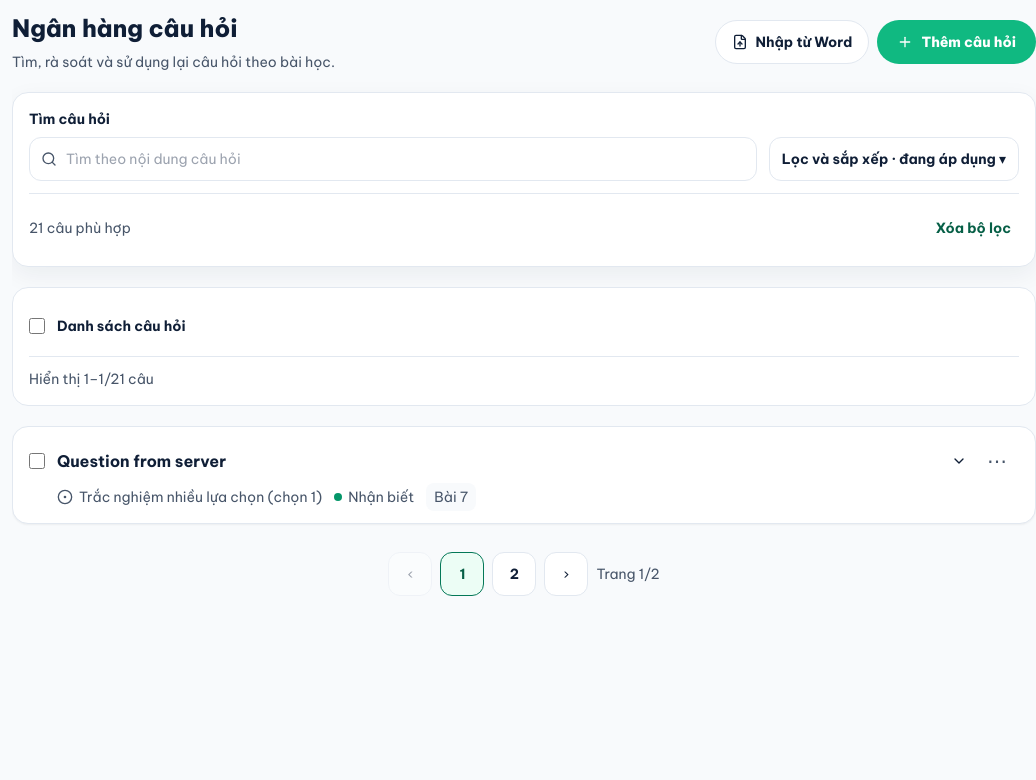
Test: Teacher Question Bank server list › requests filtered pages from the backend instead of slicing a local first page
Click the button named "Trang câu hỏi sau": (566, 574) [544,552,588,596]
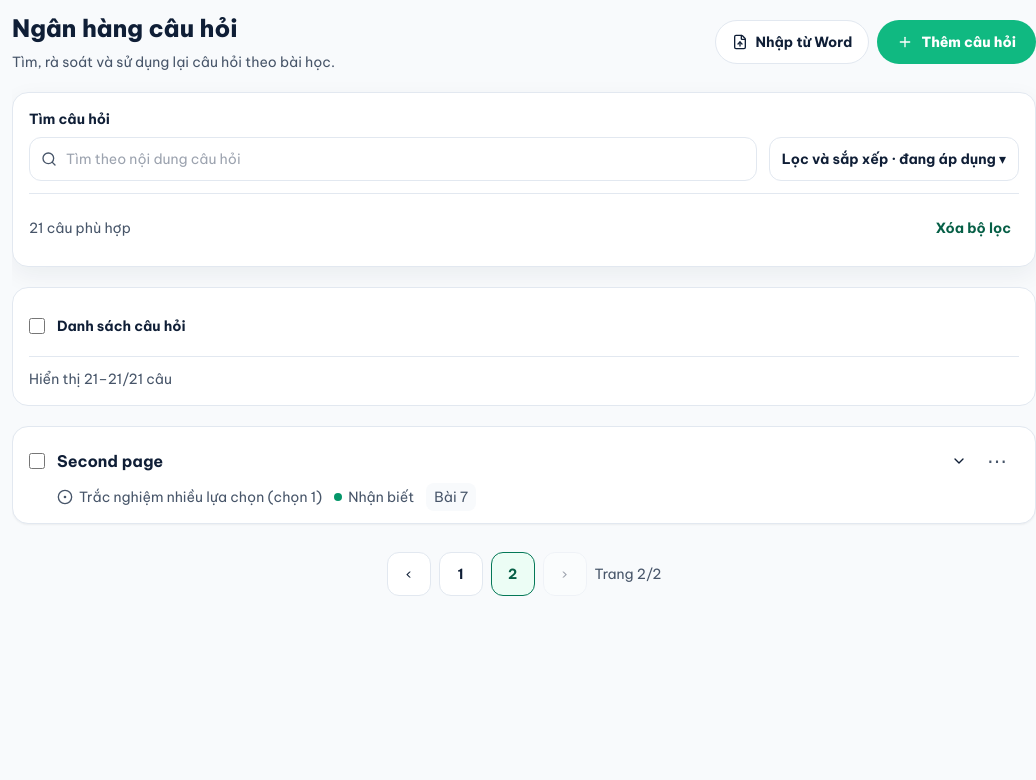
Expected: the text "Second page" is shown, [57,449,163,473]
